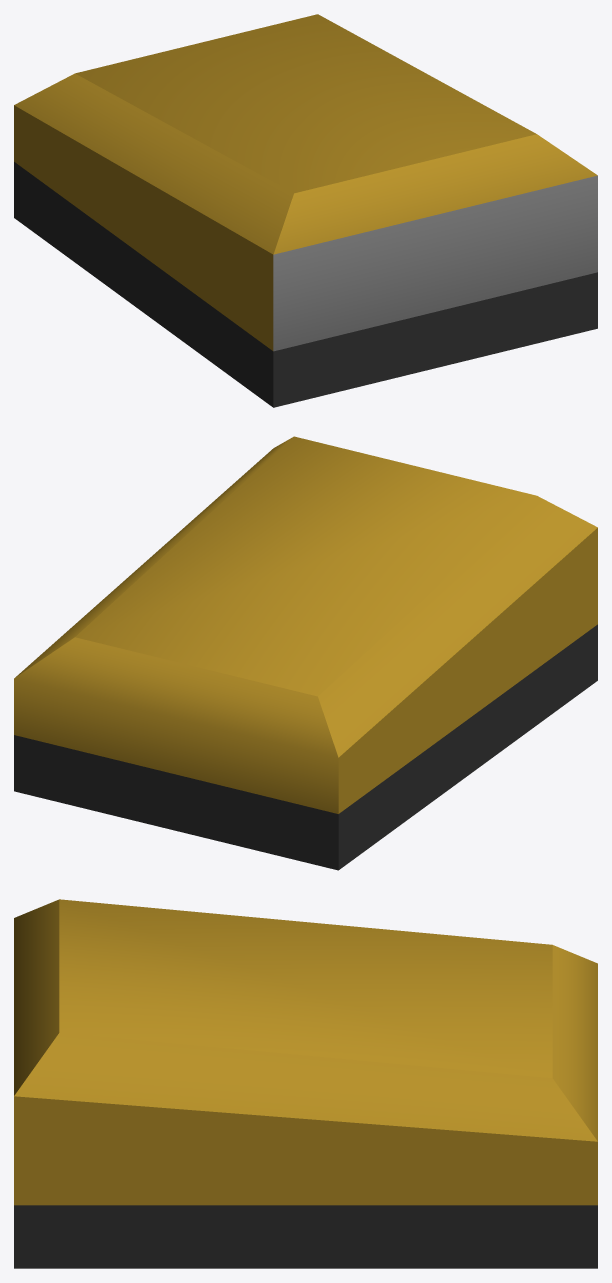
Rendered from Engine_Air_Intake_1.fbx.
The picture shows the model from 3 angles, top to bottom: view 1: azimuth 30°, elevation 25°; view 2: azimuth 150°, elevation 25°; view 3: azimuth 270°, elevation 25°; orthographic projection. The views are drawn at different scales.
Visible parts, largest first — view 1: Engine_Air_Intake_1; view 2: Engine_Air_Intake_1; view 3: Engine_Air_Intake_1.
Boxes of the visible parts, left/top/right/bottom form: Engine_Air_Intake_1: left=14, top=14, right=597, bottom=407; Engine_Air_Intake_1: left=14, top=436, right=597, bottom=870; Engine_Air_Intake_1: left=14, top=899, right=597, bottom=1268.
Bounding box in the file's own units: 43.57 × 24.33 × 60.33.
